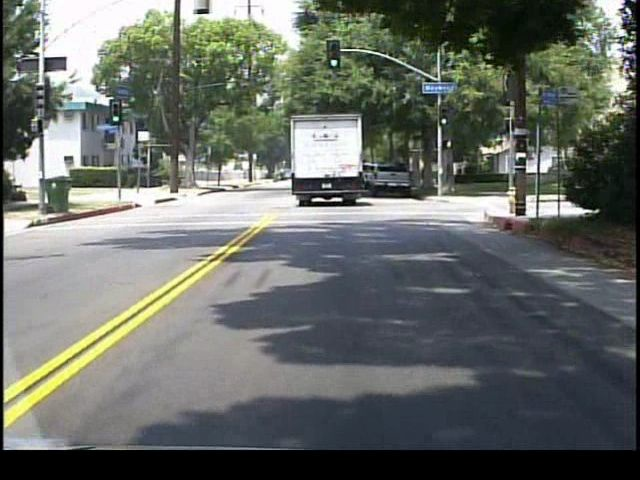person: (421, 166, 428, 186)
